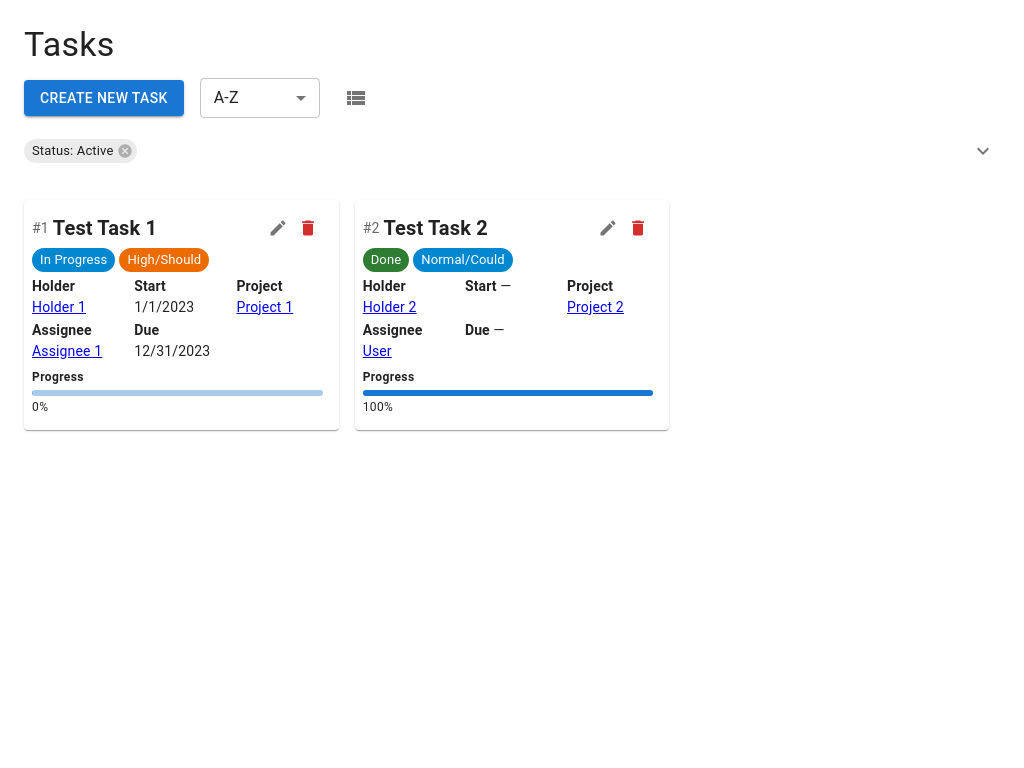
Tasks Component › filters tasks by priority using filter panel
Expected: the link "Test Task 1" is shown, [53,216,157,240]
Expected: the link "Test Task 2" is shown, [384,216,488,240]
Click the button named "expand filters".
click(983, 151)  # box [966,134,1000,168]
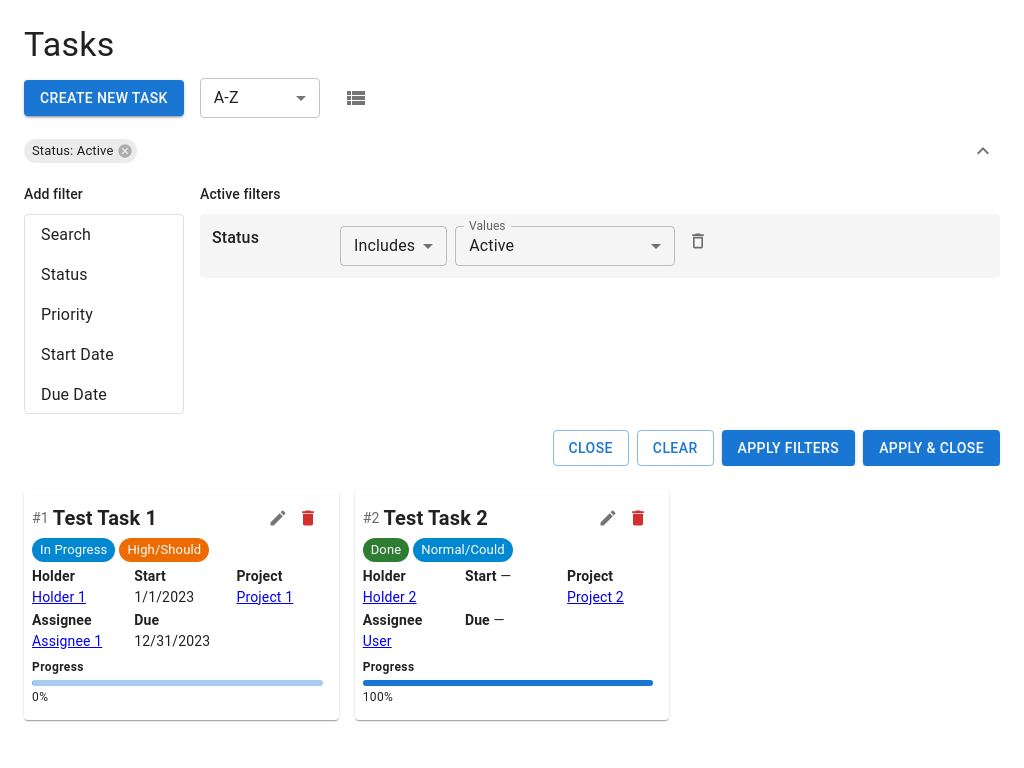
Click the button with test id "add-filter-priority_id".
click(67, 314)  # box [41,305,93,324]
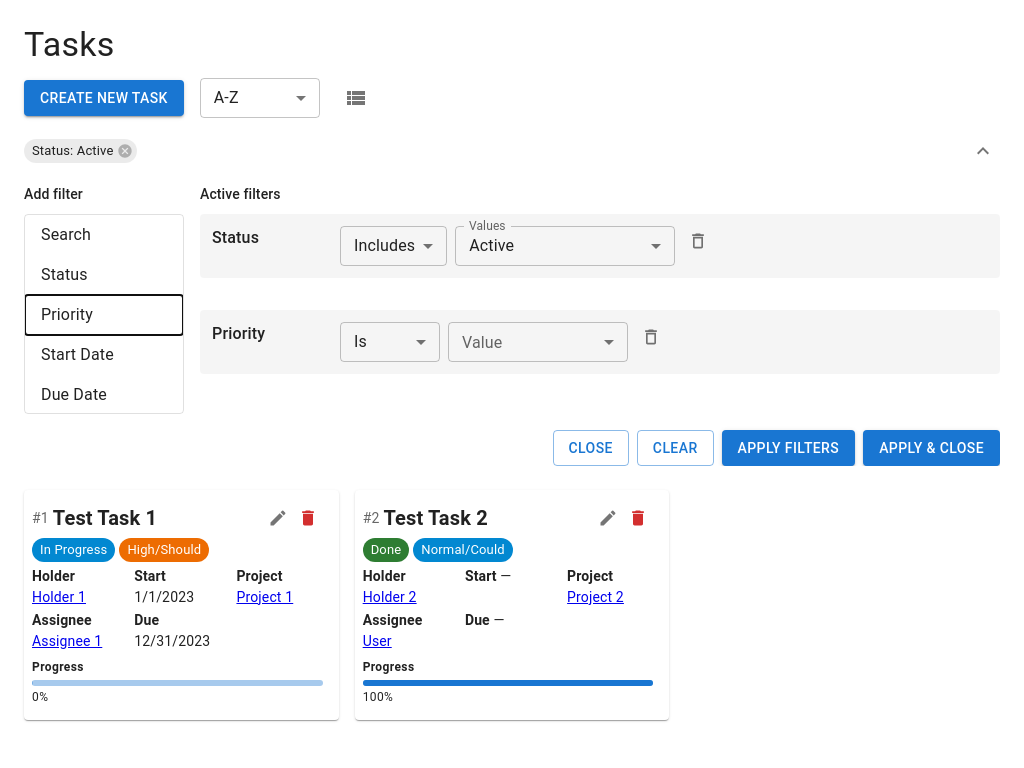
Click the dropdown named "Value".
click(538, 342)  # box [448,322,628,362]
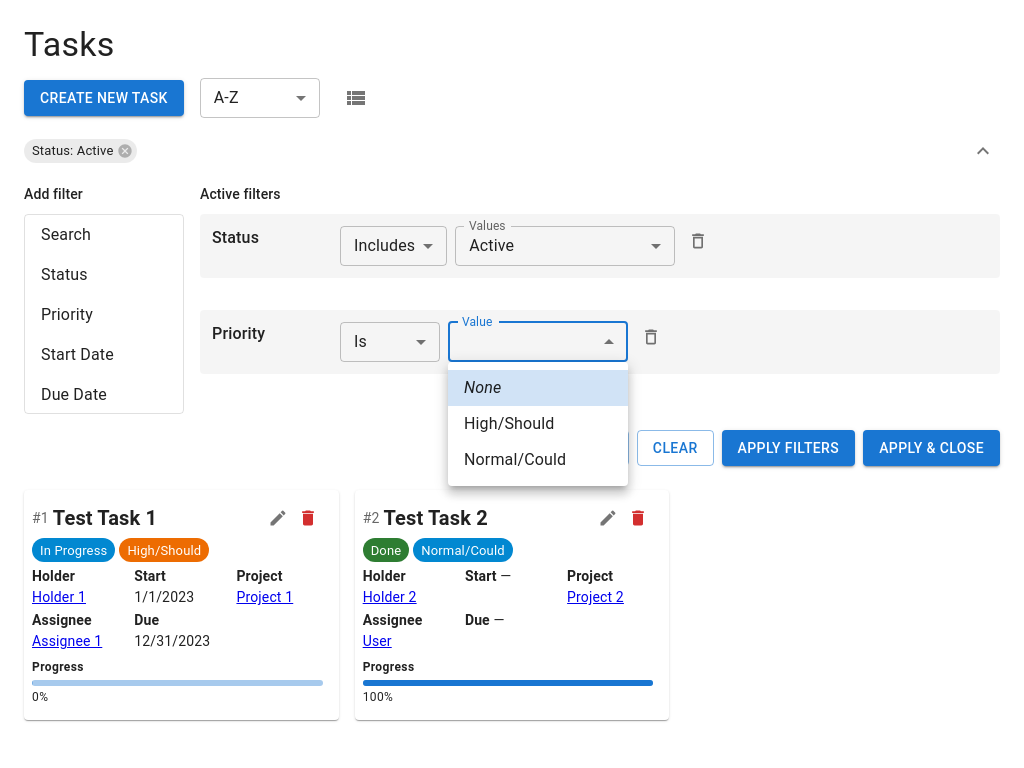
Click the option "Normal/Could".
click(515, 460)  # box [464,450,566,469]
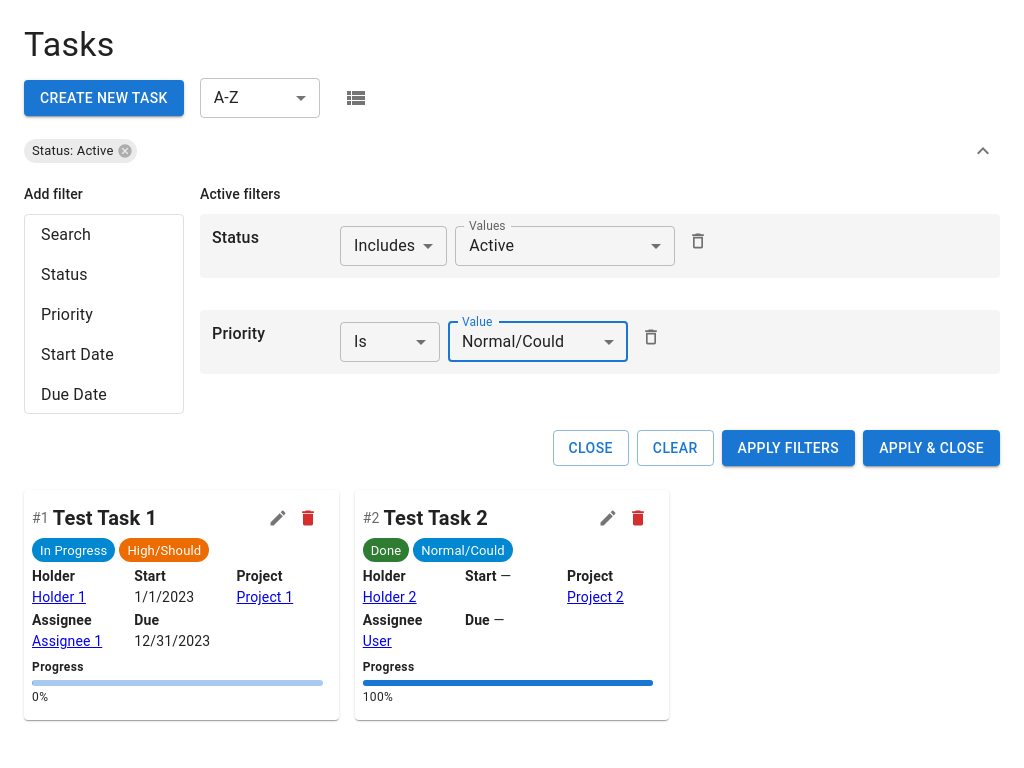
Click the button with test id "apply-close-filters-button".
click(932, 448)  # box [863,430,1000,466]
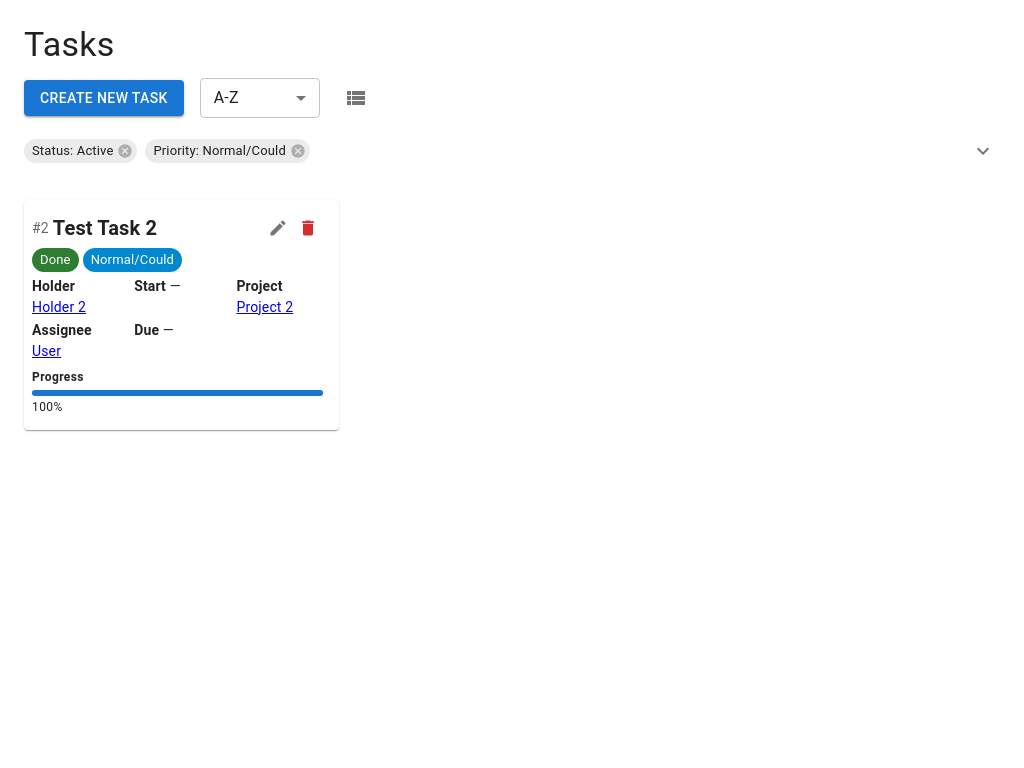
Expected: the link "Test Task 2" is shown, [53,216,157,240]
Expected: the link "Test Task 1" is gone
